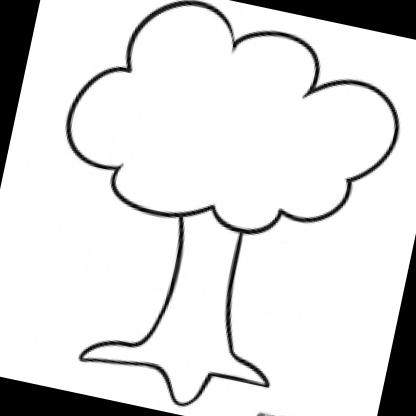crown_cloud: (50, 0, 416, 259)
root_only: (72, 318, 275, 416)
trunk_straight: (149, 226, 254, 348)
